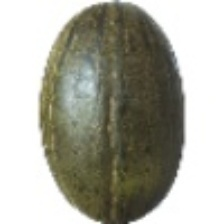honeydew: (23, 41, 178, 194)
